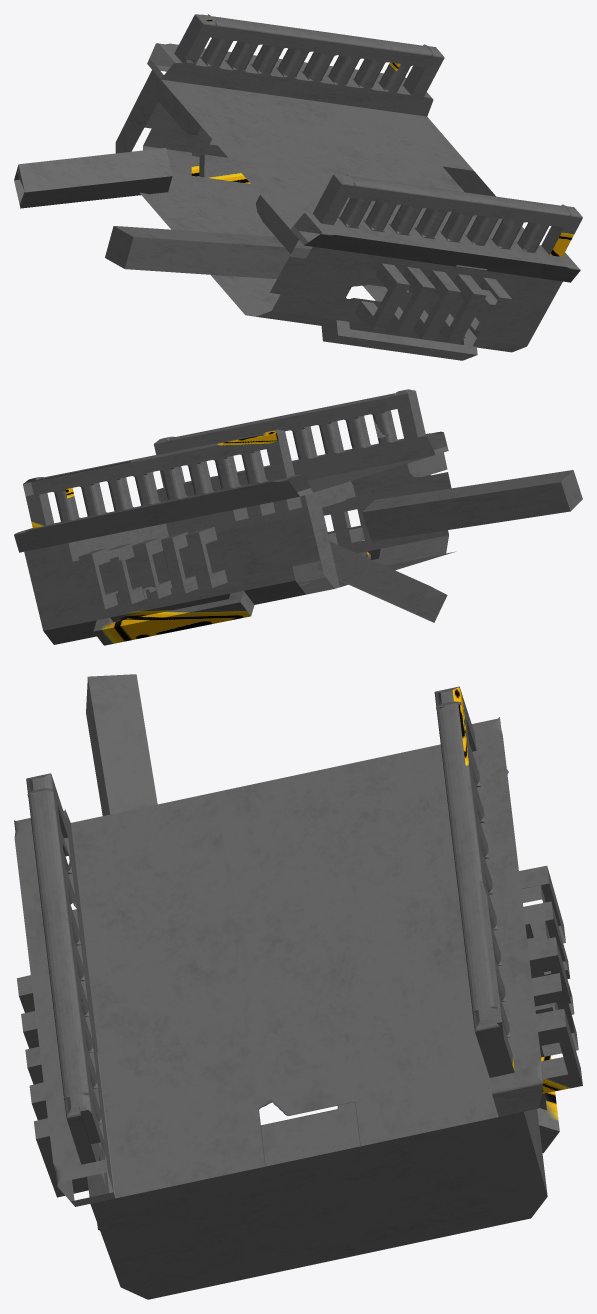
The model's file is brdg2.fbx.
3 views of the same model, one above another, from view 1: azimuth 30°, elevation 25°; view 2: azimuth 150°, elevation 25°; view 3: azimuth 270°, elevation 25° (orthographic). The views are drawn at different scales.
Visible parts, largest first — view 1: Bridge.003; view 2: Bridge.003; view 3: Bridge.003.
Part boxes in pixels (bbox=[...]): Bridge.003: bbox=[14, 14, 582, 360]; Bridge.003: bbox=[14, 389, 582, 645]; Bridge.003: bbox=[14, 674, 582, 1299].
Size of the model in its own units: 286 by 188 by 210.
